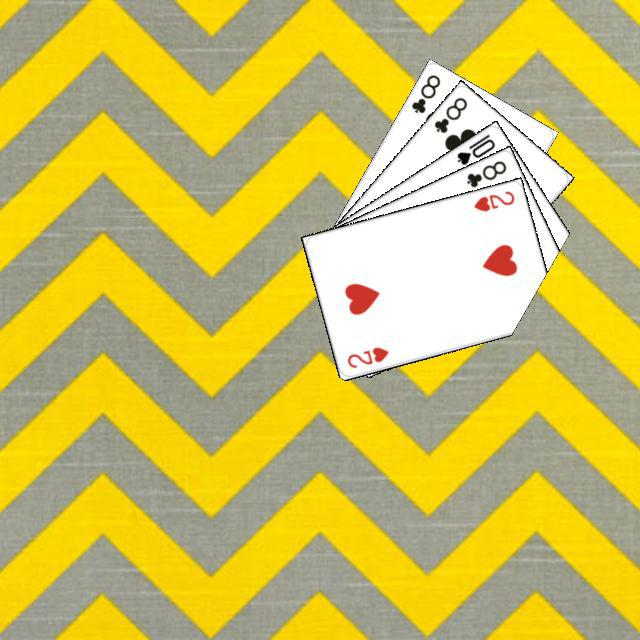10s: (452, 129, 497, 167)
2h: (342, 342, 390, 370), (469, 186, 516, 213)
8c: (429, 92, 469, 135), (406, 69, 442, 115), (462, 156, 508, 189)
